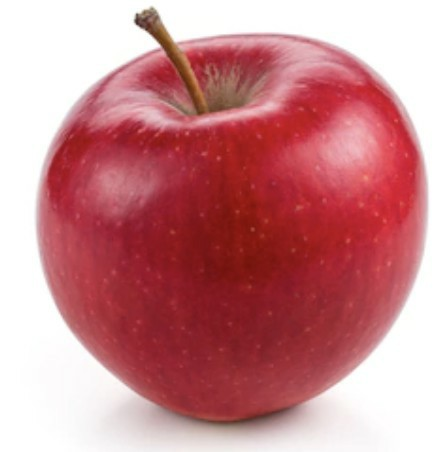fresh_apple: (34, 33, 431, 427)
